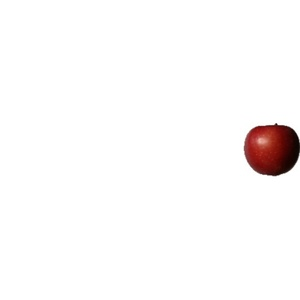maçã braeburn: (241, 122, 297, 177)
